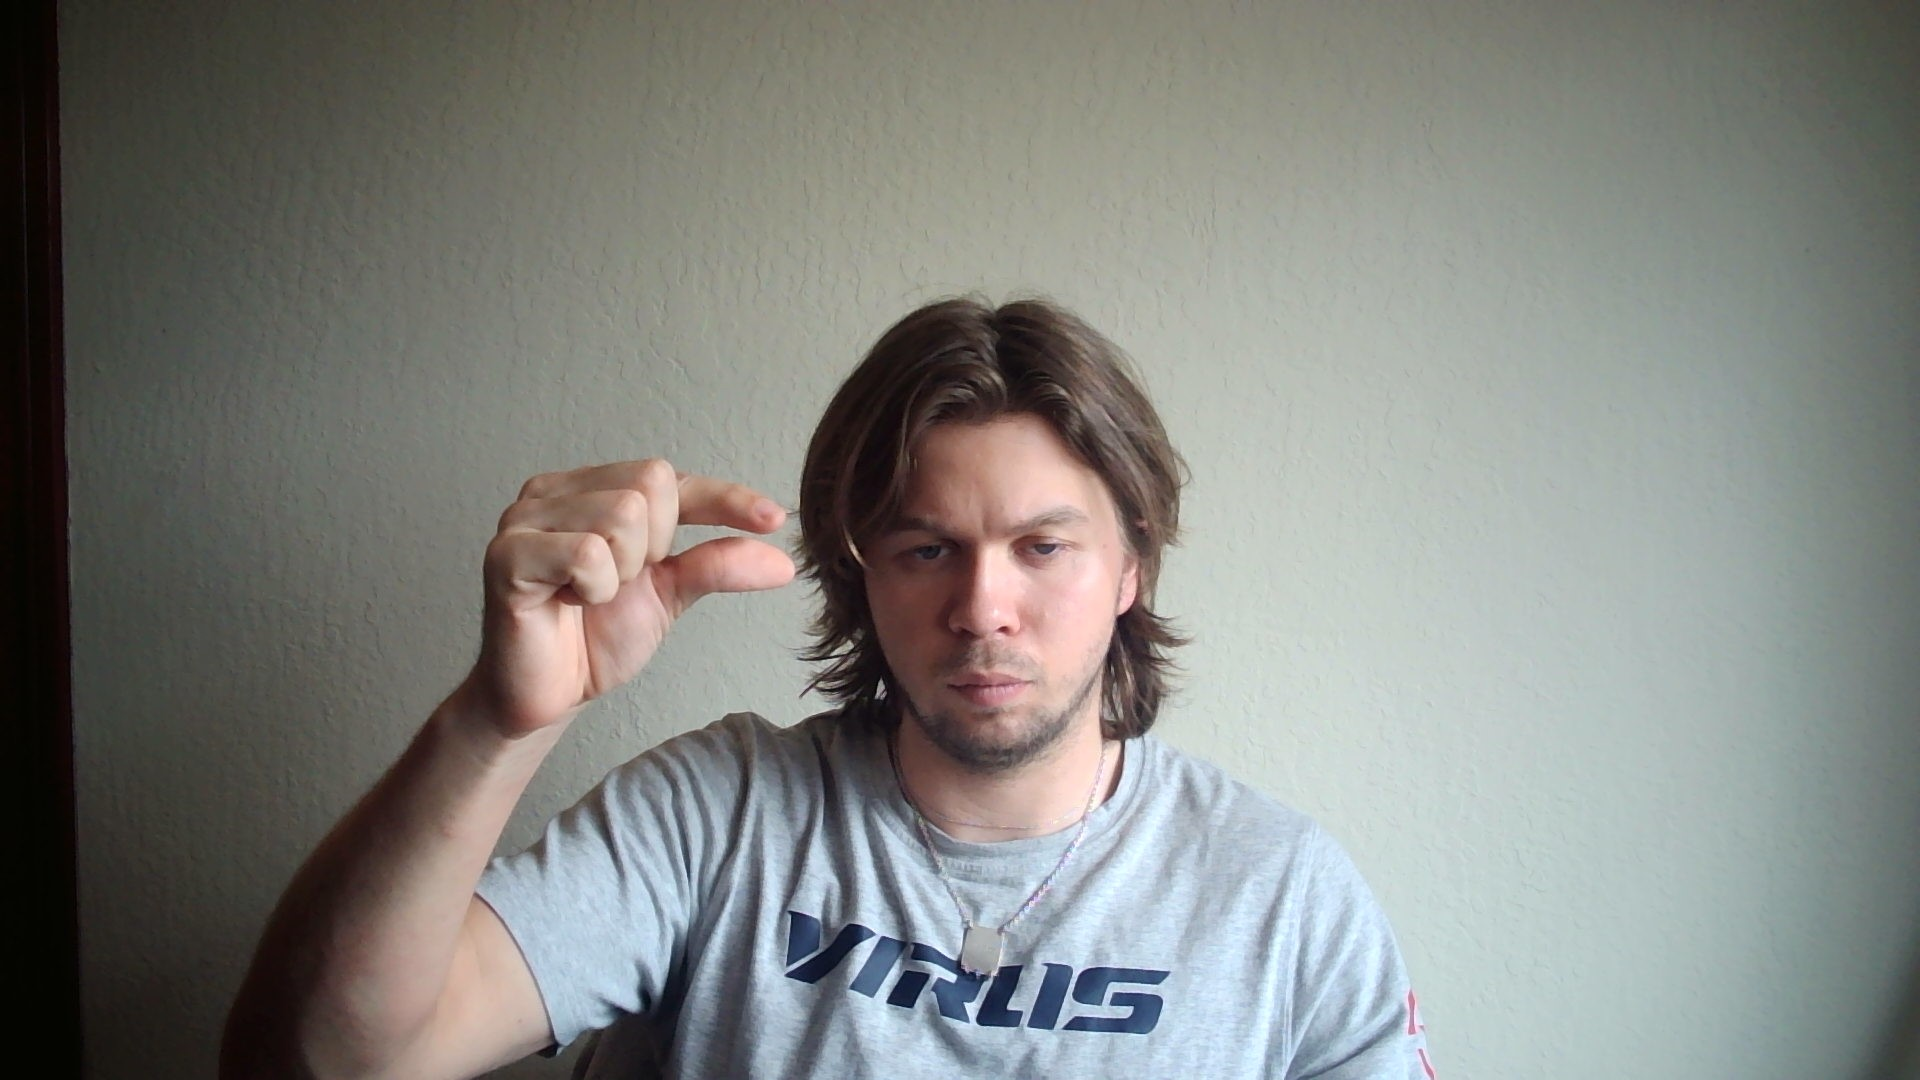small: (483, 460, 795, 731)
